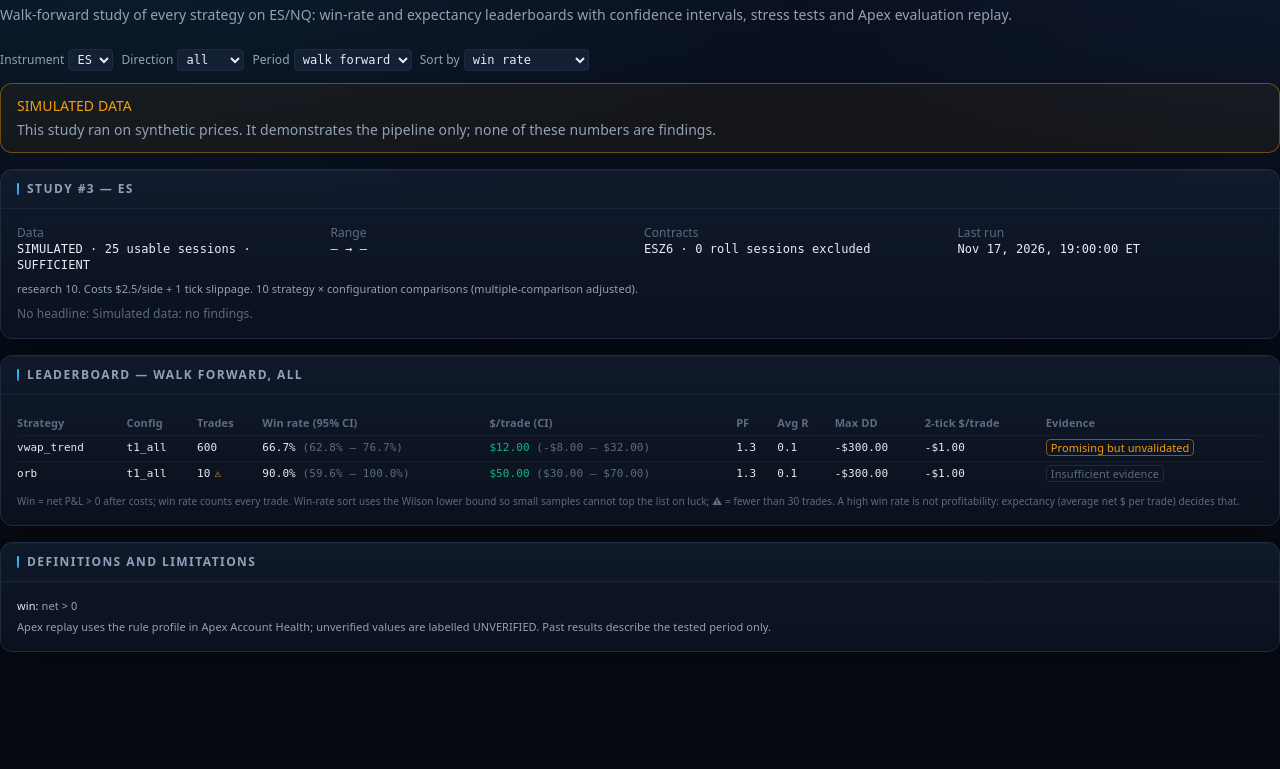
labels simulated data, ranks by the conservative lower bound and flags small samples
The width and height of the screenshot is (1280, 769).
Expected: the text "SIMULATED DATA" is shown, [17,96,132,115]
Expected: the text with test id "research-headline" shows "No headline", [17,304,93,322]
Click the row with test id "^research-row-". click: (640, 448)
box: [17,436,1263,461]
(page scrolled)
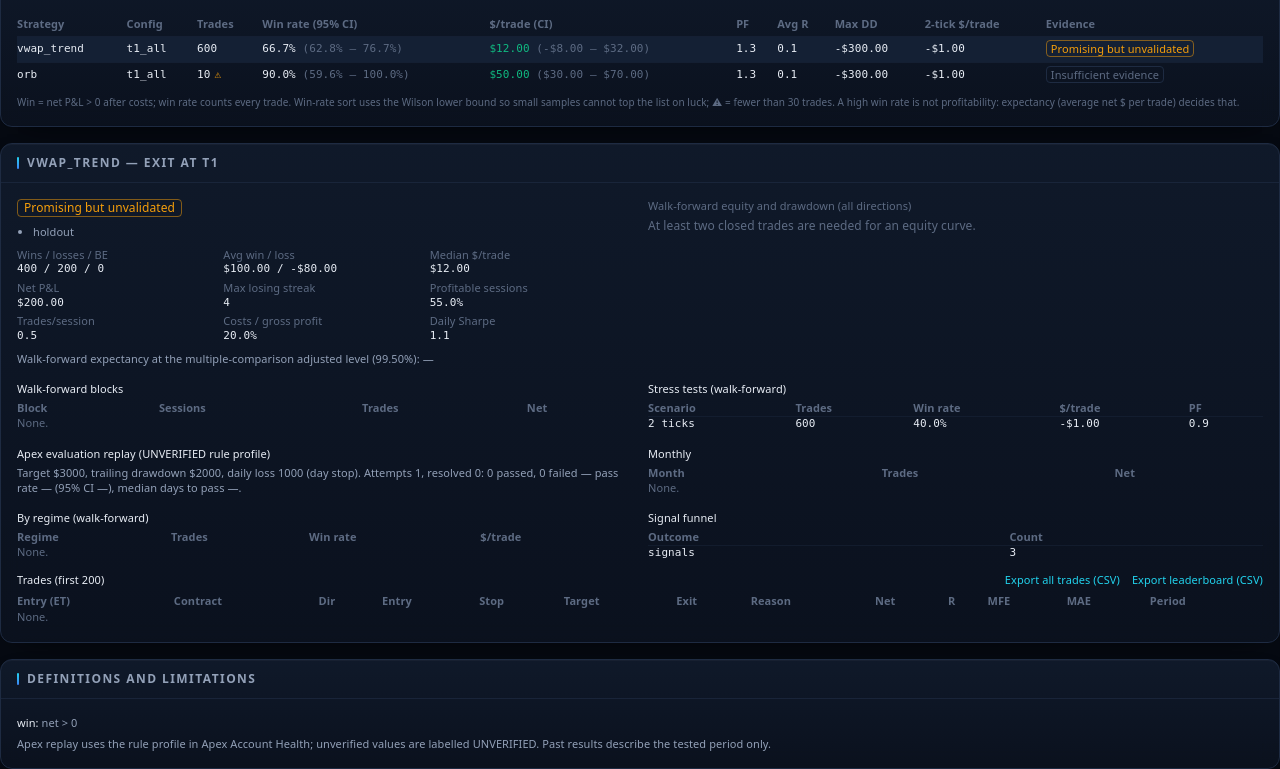
Result: the element with test id "research-detail" is shown at [17,199,1263,560]
Result: the element with test id "research-apex" shows "UNVERIFIED" at [142,446,267,461]
